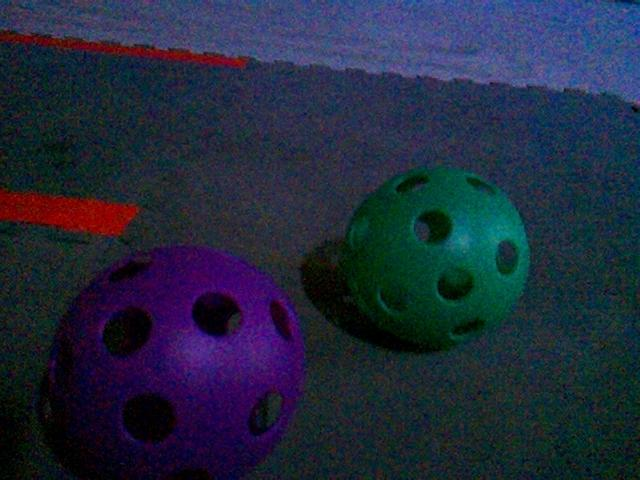Green: (340, 170, 530, 347)
Purple: (42, 244, 307, 480)
